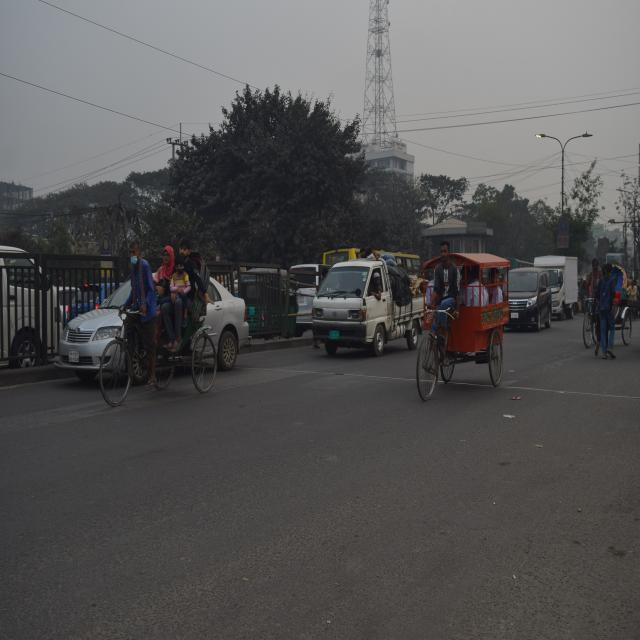car: (72, 266, 249, 384), (508, 258, 551, 334)
pickup-van: (304, 252, 432, 358), (534, 244, 584, 324)
